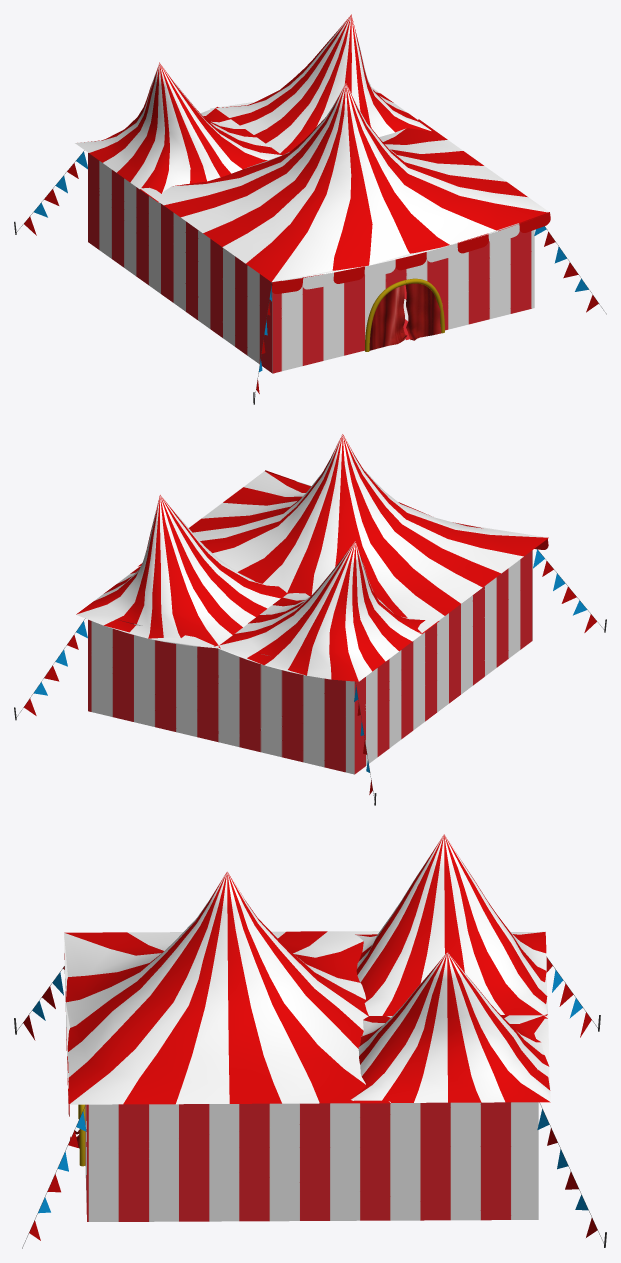
The model's file is amusement_land_tent.glb.
3 views of the same model, one above another, from view 1: azimuth 30°, elevation 25°; view 2: azimuth 150°, elevation 25°; view 3: azimuth 270°, elevation 25° (orthographic). The views are drawn at different scales.
Parts seen in each view (by area): view 1: Assembly-147, Cone002.001, Cone002_2, Cone004_2, Cone004.001, Cone003.001, Cone003_2, Assembly-174, Assembly-176; view 2: Assembly-147, Cone002_2, Cone002.001, Cone003_2, Cone004.001, Cone003.001, Cone004_2; view 3: Assembly-147, Cone002.001, Cone002_2, Cone003.001, Cone004_2, Cone003_2, Cone004.001.
Part boxes in pixels (x1=…): Assembly-147: x1=88, y1=153, x2=534, y2=373; Cone002.001: x1=140, y1=83, x2=550, y2=281; Cone002_2: x1=142, y1=83, x2=547, y2=281; Cone004_2: x1=84, y1=62, x2=280, y2=202; Cone004.001: x1=75, y1=63, x2=281, y2=202; Cone003.001: x1=210, y1=15, x2=431, y2=153; Cone003_2: x1=218, y1=14, x2=430, y2=155; Assembly-174: x1=369, y1=285, x2=406, y2=350; Assembly-176: x1=405, y1=283, x2=443, y2=340; Assembly-147: x1=88, y1=550, x2=532, y2=774; Cone002_2: x1=138, y1=434, x2=548, y2=632; Cone002.001: x1=138, y1=433, x2=546, y2=633; Cone003_2: x1=76, y1=495, x2=287, y2=648; Cone004.001: x1=214, y1=541, x2=421, y2=681; Cone003.001: x1=76, y1=495, x2=280, y2=648; Cone004_2: x1=214, y1=541, x2=439, y2=681; Assembly-147: x1=85, y1=1070, x2=538, y2=1221; Cone002.001: x1=64, y1=871, x2=390, y2=1104; Cone002_2: x1=64, y1=872, x2=390, y2=1104; Cone003.001: x1=351, y1=952, x2=550, y2=1102; Cone004_2: x1=355, y1=834, x2=547, y2=1018; Cone003_2: x1=352, y1=952, x2=550, y2=1102; Cone004.001: x1=354, y1=835, x2=548, y2=1018.
Bounding box in the file's own units: 0.8629 × 0.4951 × 0.9826.
Materials: 21 (2 with a texture image).
